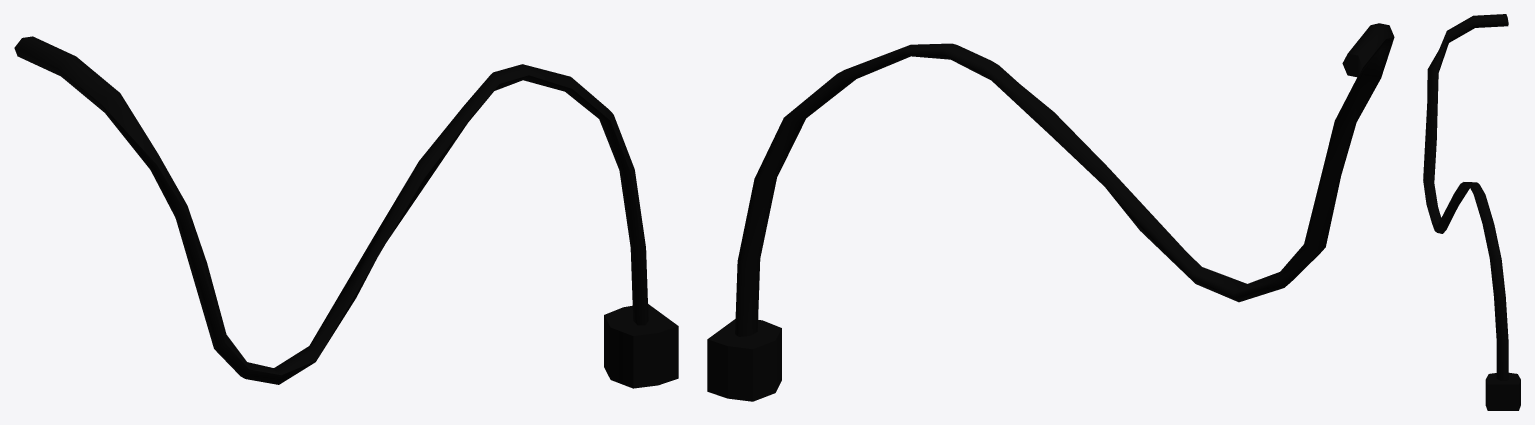
Rendered from powercord2_lod1.fbx.
The picture shows the model from 3 angles, left to right: view 1: azimuth 30°, elevation 25°; view 2: azimuth 150°, elevation 25°; view 3: azimuth 270°, elevation 25°; orthographic projection. The views are drawn at different scales.
Visible parts, largest first — view 1: cord5, plug5; view 2: cord5, plug5; view 3: cord5, plug5.
Part boxes in pixels (x1,y1,x2,y2): cord5: (14, 36, 648, 384); plug5: (604, 304, 678, 388); cord5: (735, 23, 1394, 336); plug5: (707, 319, 781, 401); cord5: (1423, 14, 1508, 380); plug5: (1485, 372, 1520, 410).
Size of the model in its own units: 1.58 by 1.13 by 0.4147.
